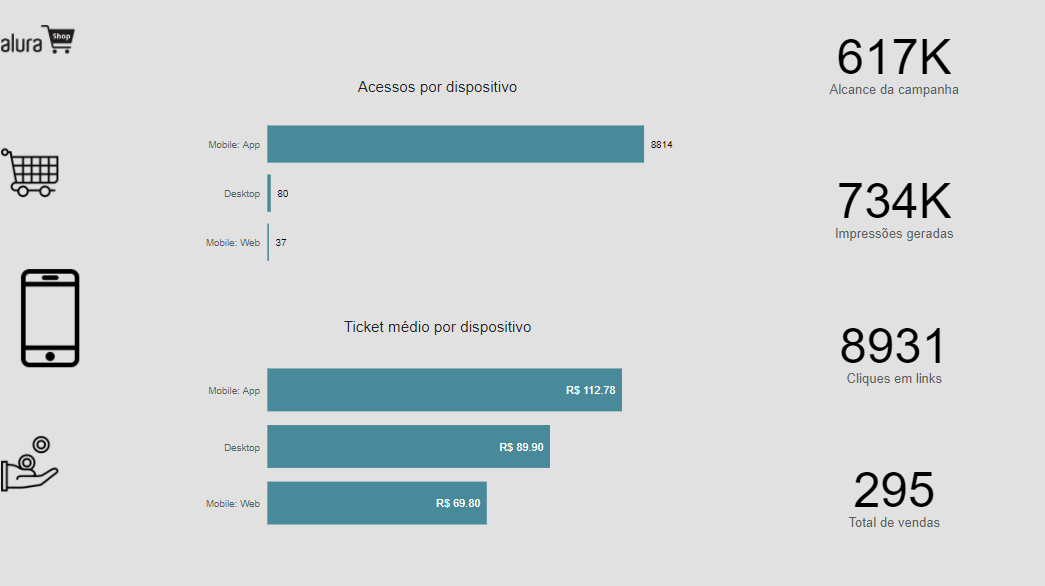

What the dashboard file says about the page in this screenshot:
{"tool":"powerbi","page":{"name":"Engajamento","canvas":[1280,720],"ordinal":2},"visuals":[{"type":"image","title":"Compras","box":[0,173.1,80,80],"z":0},{"type":"image","box":[0,0,100,100],"z":1000},{"type":"image","box":[0,326.2,130,130],"z":2000},{"type":"image","box":[0,529.2,80,80],"z":3000},{"type":"clusteredBarChart","title":"Ticket médio por dispositivo","fields":{"Category":["Tabela - Tabela dispositivos.Plataforma do dispositivo Hierarquia.Plataforma do dispositivo","Tabela - Tabela dispositivos.Plataforma do dispositivo Hierarquia.Plataforma"],"Y":["Medidas Dispositivos.Ticket Medio Disp"]},"box":[244.4,391.2,588.1,288.4],"z":4000},{"type":"card","title":"Alcance da campanha","fields":{"Values":["Medidas Dispositivos.Alcance"]},"box":[971.4,0,249.7,150.3],"z":5000},{"type":"card","fields":{"Values":["Acessos mobile web.Impressões"]},"box":[971.4,176.4,249.7,150.3],"z":6000},{"type":"card","fields":{"Values":["Acessos mobile web.Total_Cliques"]},"box":[971.4,352.8,249.7,150.3],"z":7000},{"type":"card","fields":{"Values":["Medidas Dispositivos.Compras disp"]},"box":[971.4,529.2,249.7,150.3],"z":8000},{"type":"clusteredBarChart","title":"Acessos por dispositivo","fields":{"Y":["Acessos mobile web.Total_Cliques"],"Category":["Tabela - Tabela dispositivos.Plataforma do dispositivo"]},"box":[244.4,97.6,588.1,254.9],"z":9000}]}

Visuals, with their boxes in screenshot pixels (x1, y1, x2, y2), scaled from the page's 1280x720 canvas onto the 1045x586 screenshot:
"Compras" image: (x1=0, y1=141, x2=65, y2=206)
image: (x1=0, y1=0, x2=82, y2=81)
image: (x1=0, y1=265, x2=106, y2=371)
image: (x1=0, y1=431, x2=65, y2=496)
"Ticket médio por dispositivo" clusteredBarChart: (x1=200, y1=318, x2=680, y2=553)
"Alcance da campanha" card: (x1=793, y1=0, x2=997, y2=122)
card - Acessos mobile web.Impressões: (x1=793, y1=144, x2=997, y2=266)
card - Acessos mobile web.Total_Cliques: (x1=793, y1=287, x2=997, y2=409)
card - Medidas Dispositivos.Compras disp: (x1=793, y1=431, x2=997, y2=553)
"Acessos por dispositivo" clusteredBarChart: (x1=200, y1=79, x2=680, y2=287)
